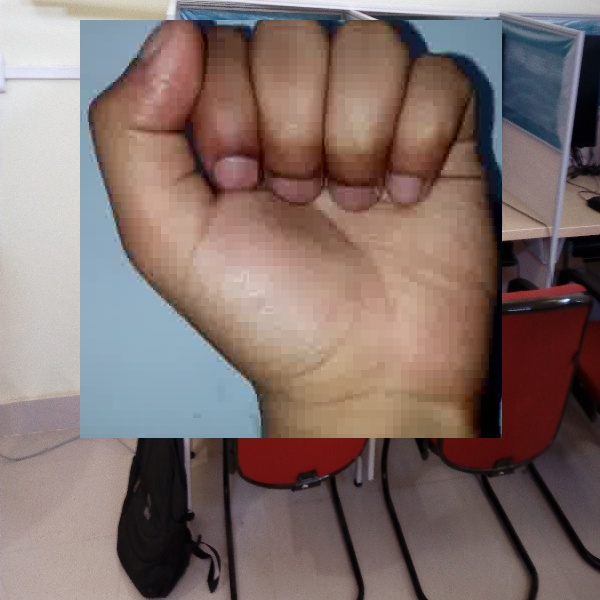A: (80, 20, 502, 438)
